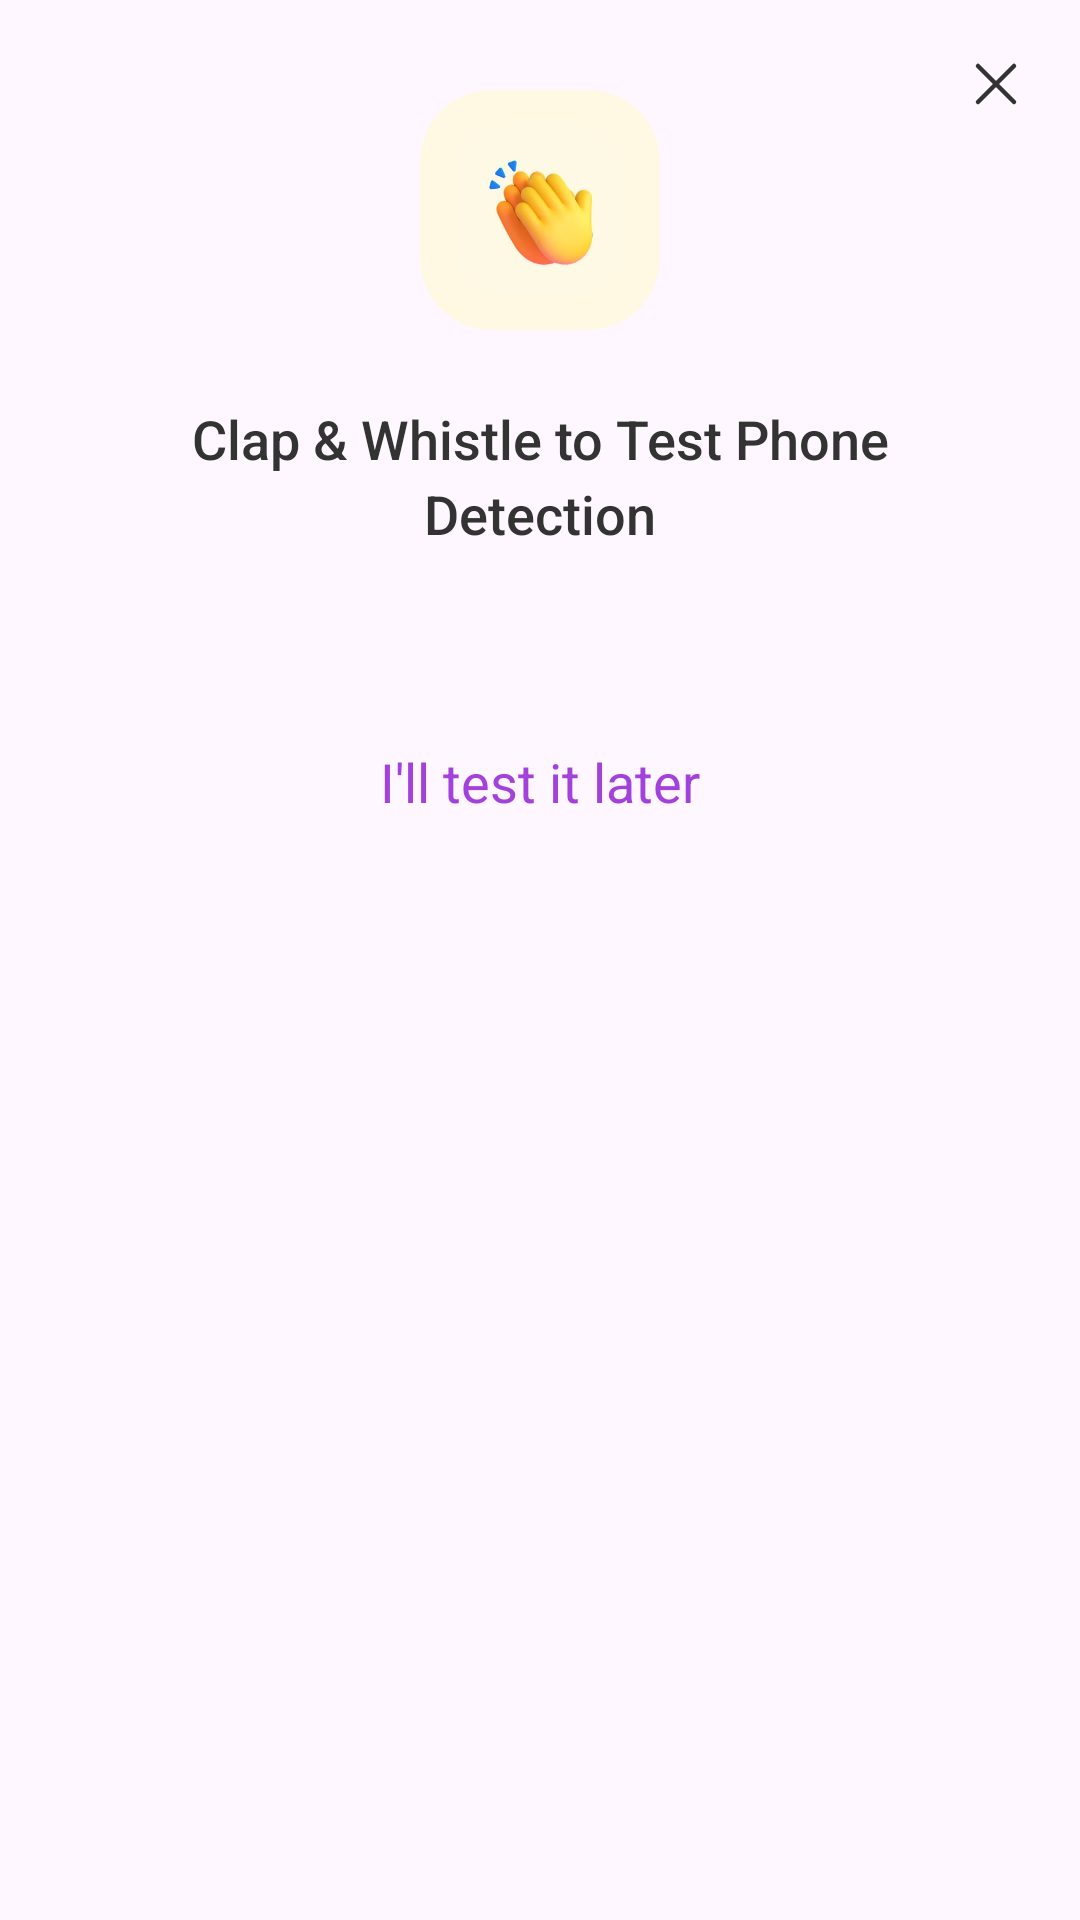

Screen size 1080*1920. Icon name, then its box in pixels as detection(x1, y1, x2, y2):
cancel: detection(975, 63, 1016, 105)
